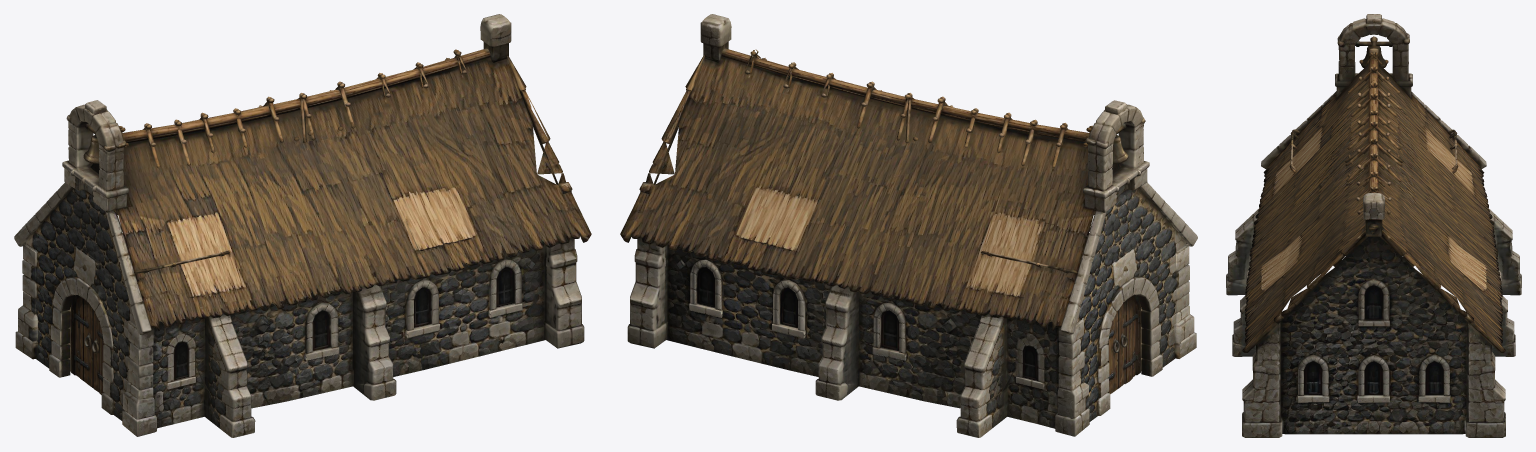
Rendered from act1-a15-1-flint-church.glb.
3 views of the same model, side by side, from view 1: azimuth 30°, elevation 25°; view 2: azimuth 150°, elevation 25°; view 3: azimuth 270°, elevation 25° (orthographic). The views are drawn at different scales.
Visible parts, largest first — view 1: act1-a15-1-flint-church; view 2: act1-a15-1-flint-church; view 3: act1-a15-1-flint-church.
Boxes of the visible parts, x1,y1,x2,y2 form: act1-a15-1-flint-church: (14,14,591,437); act1-a15-1-flint-church: (620,14,1197,437); act1-a15-1-flint-church: (1226,14,1521,437).
Size of the model in its own units: 16 by 9.87 by 10.68.
Materials: 1 (1 with a texture image).
